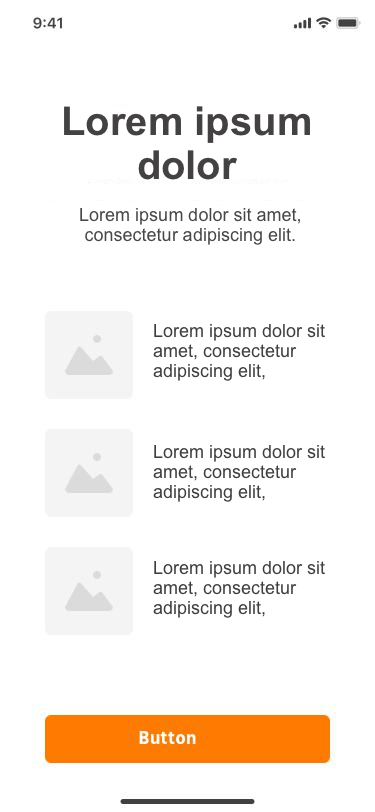Image: (45, 311, 135, 400), (45, 546, 135, 635), (45, 429, 134, 518)
Text: (64, 106, 311, 182), (153, 322, 326, 382), (153, 444, 326, 503), (153, 561, 326, 619), (80, 208, 301, 247)
TextButton: (45, 715, 331, 764)
UpperTaskBar: (33, 17, 362, 31)
